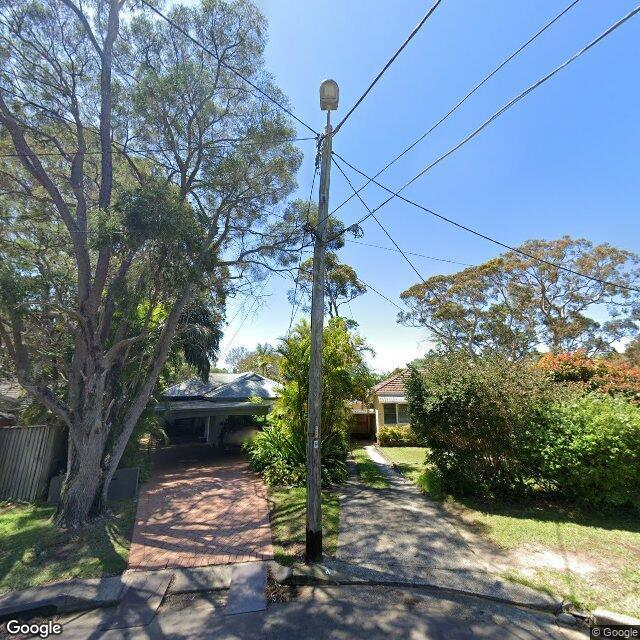streetlight: (320, 80, 340, 200)
timber-pole: (306, 132, 332, 560)
